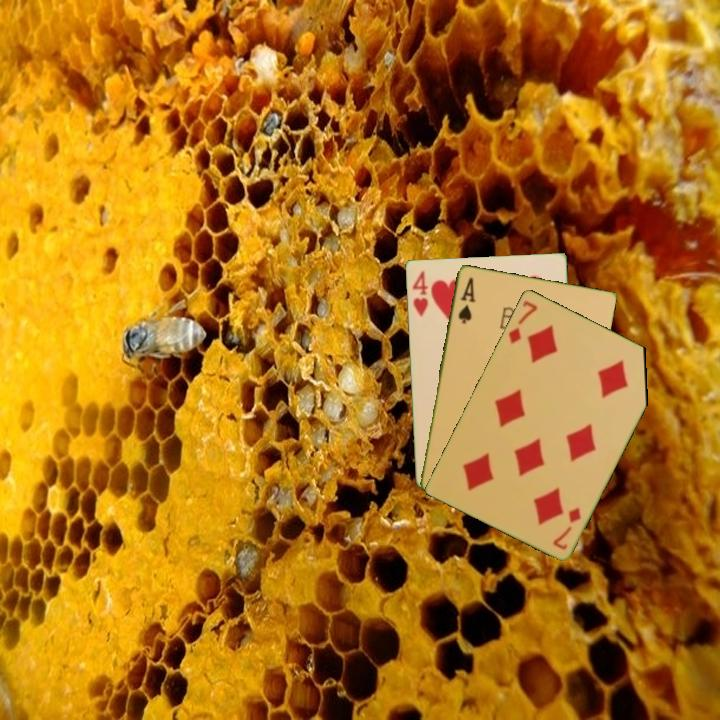4h: (409, 267, 431, 319)
7d: (505, 296, 540, 346), (549, 503, 584, 552)
As: (454, 273, 478, 326)
